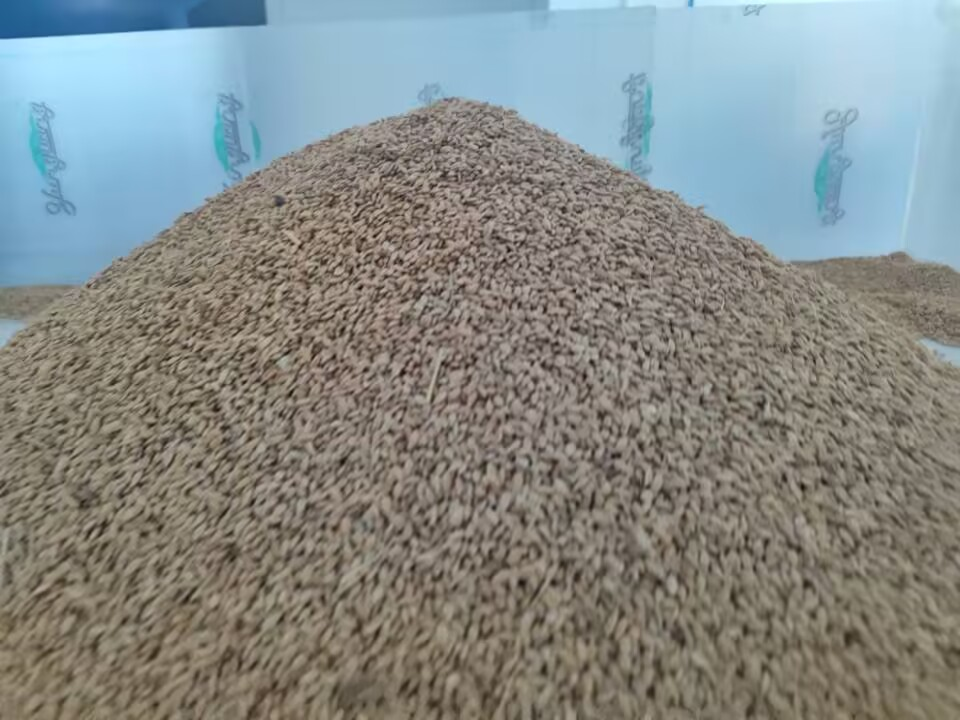Grain: (27, 81, 943, 699)
